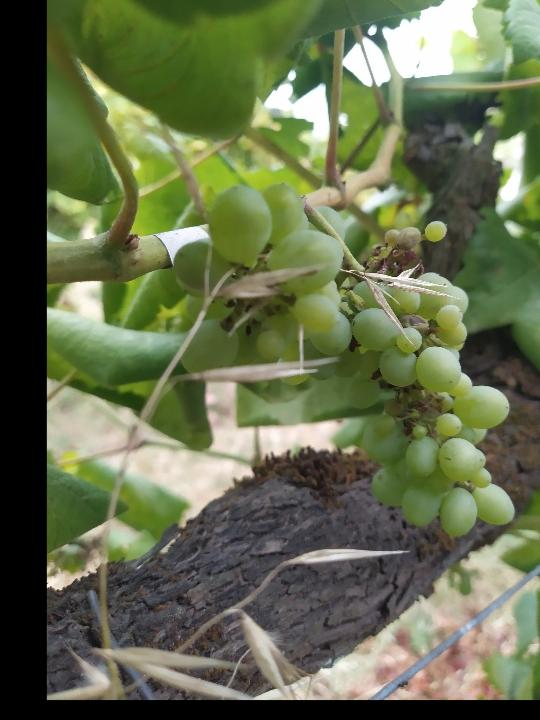grape: (171, 179, 520, 539)
